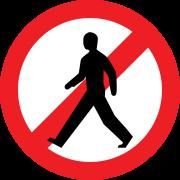Pedestrian Prohibited: (8, 4, 175, 178)
